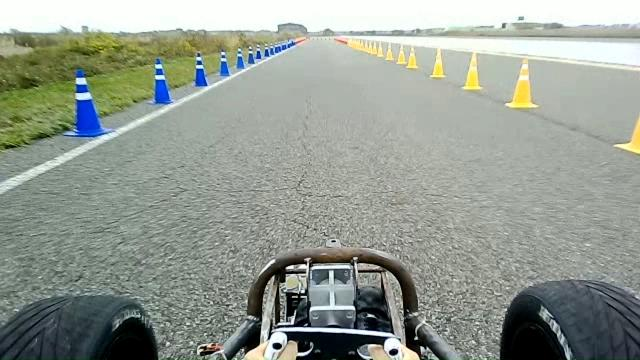blue cone: (62, 68, 114, 138), (150, 57, 173, 104), (192, 51, 209, 87), (218, 49, 230, 76), (235, 47, 246, 69), (247, 45, 256, 64), (255, 44, 262, 59), (268, 42, 275, 56), (263, 44, 270, 57)
yellow cone: (505, 57, 539, 109), (614, 114, 640, 154), (462, 52, 483, 90), (429, 47, 447, 78), (406, 46, 418, 69), (396, 43, 406, 65), (385, 43, 394, 61), (376, 40, 384, 57), (371, 40, 378, 55), (367, 41, 373, 55)
